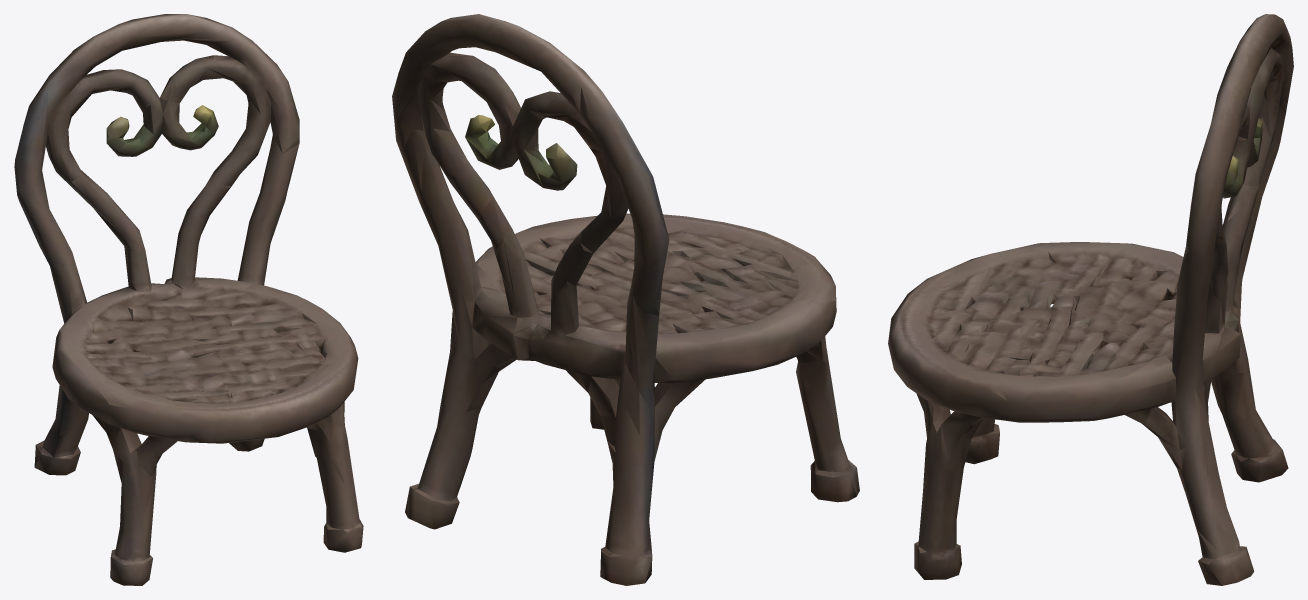
Rendered from chair12.glb.
3 views of the same model, side by side, from view 1: azimuth 30°, elevation 25°; view 2: azimuth 150°, elevation 25°; view 3: azimuth 270°, elevation 25° (orthographic). The views are drawn at different scales.
Bounding box in the file's own units: 0.1696 × 0.2524 × 0.1806.
Materials: 1 (1 with a texture image).
